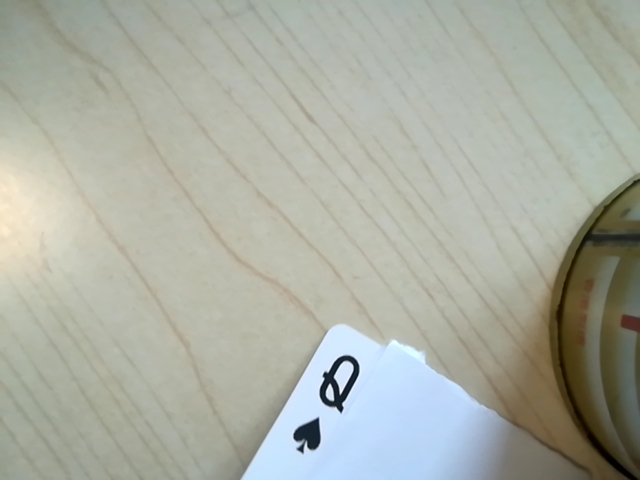ht q: (284, 345, 371, 463)
